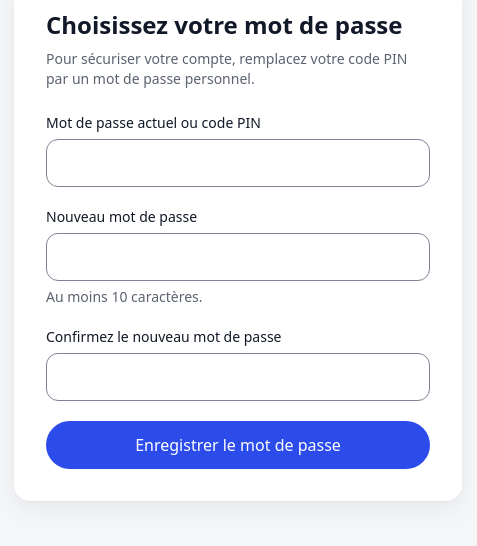
Scenario: ChangePasswordForm (fr) › refuses a confirmation that doesn't match
This screenshot has width=477, height=546.
Type "12345678" into the password field labelled "Mot de passe actuel ou code PIN" at (238, 163), box 46,139 -> 430,187
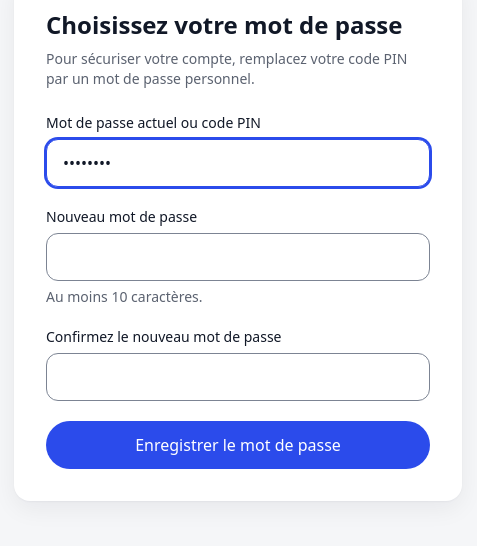
Type "a-brand-new-secret" into the password field labelled "Nouveau mot de passe" at (238, 257), box 46,233 -> 430,281
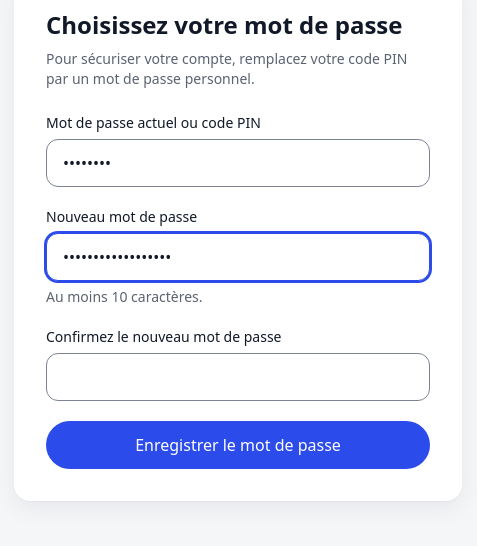
Type "a-different-secret" into the password field labelled "Confirmez le nouveau mot de passe" at (238, 377), box 46,353 -> 430,401
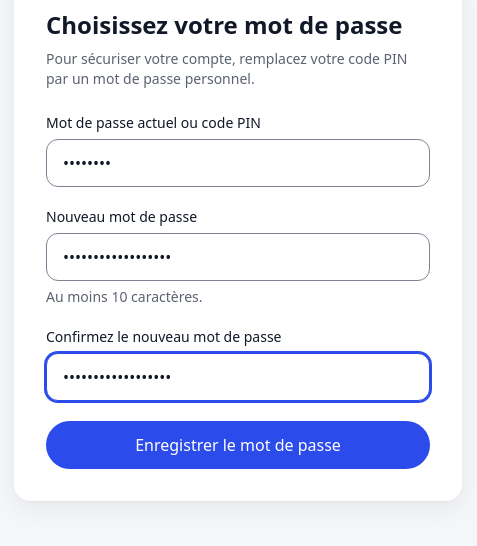
Click the button "Enregistrer le mot de passe" at (238, 445), box 46,421 -> 430,469
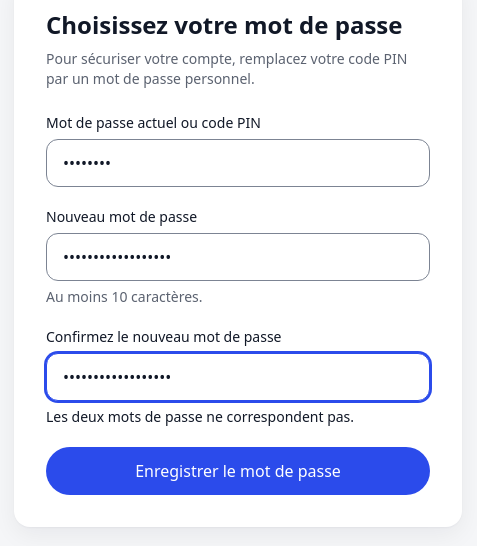
Check: the text "Les deux mots de passe ne correspondent pas." is shown, box 46,407 -> 354,426
